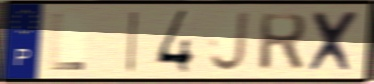4: (153, 8, 197, 77)
I: (124, 9, 141, 74)
J: (207, 10, 250, 74)
L: (48, 11, 87, 72)
R: (257, 11, 309, 72)
X: (306, 9, 364, 75)
